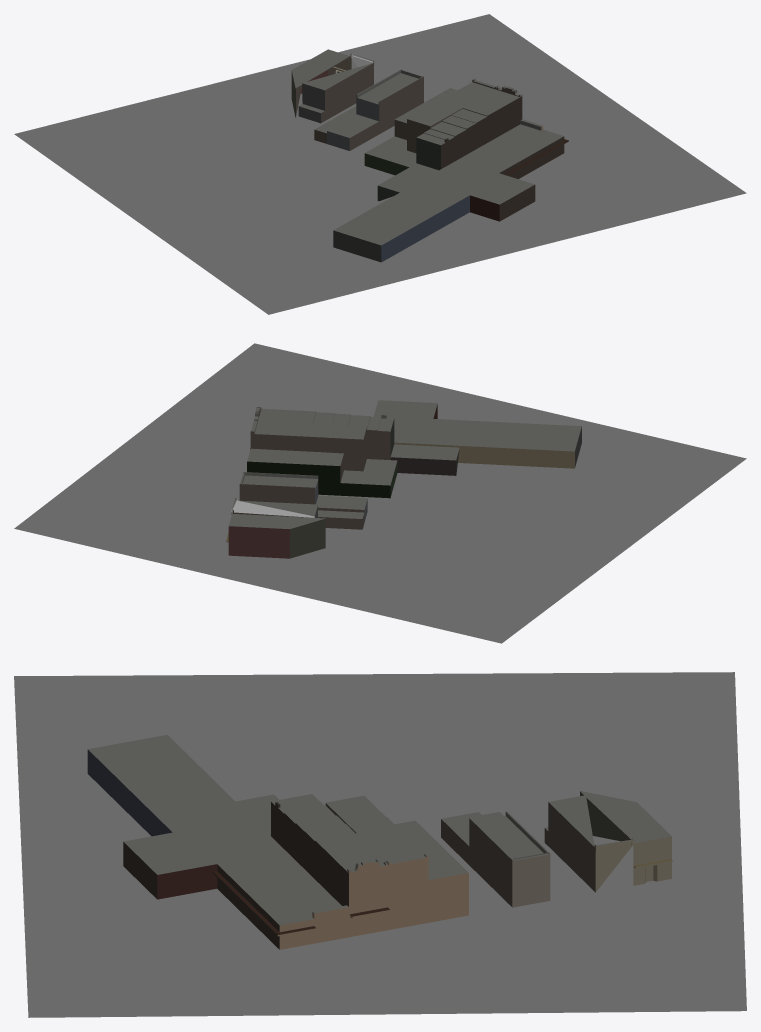
File: 1200-market-street.glb
3 views of the same model, one above another, from view 1: azimuth 30°, elevation 25°; view 2: azimuth 150°, elevation 25°; view 3: azimuth 270°, elevation 25° (orthographic). The views are drawn at different scales.
Parts seen in each view (by area): view 1: LOD0; view 2: LOD0; view 3: LOD0.
Boxes of the visible parts, x1,y1,x2,y2 form: LOD0: (14,14,746,314); LOD0: (14,343,746,643); LOD0: (14,672,746,1017).
Size of what is drawn, in the model's own units: 143 by 14.03 by 128.
2 materials, 2 textured.
